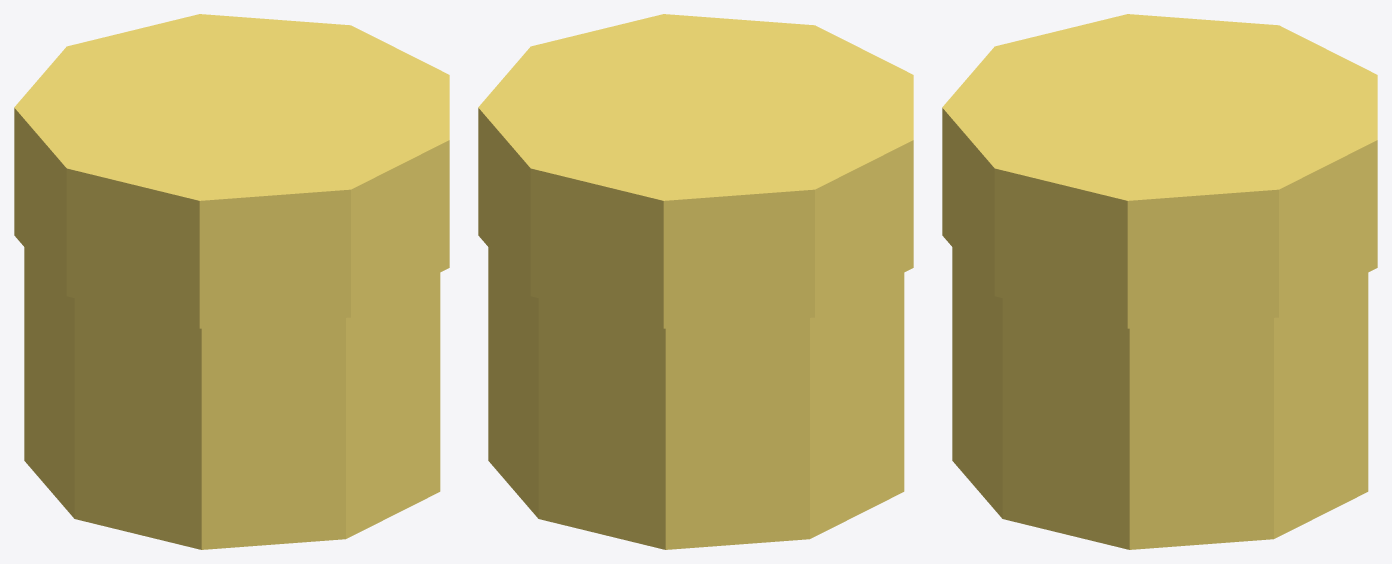
3 renders of one model, left to right at view 1: azimuth 30°, elevation 25°; view 2: azimuth 150°, elevation 25°; view 3: azimuth 270°, elevation 25°, orthographic.
Visible parts, largest first — view 1: Box_13; view 2: Box_13; view 3: Box_13.
Boxes of the visible parts, x1,y1,x2,y2 form: Box_13: (14, 14, 449, 549); Box_13: (478, 14, 913, 549); Box_13: (942, 14, 1377, 549).
Bounding box in the file's own units: 11.22 × 11.05 × 9.89.
